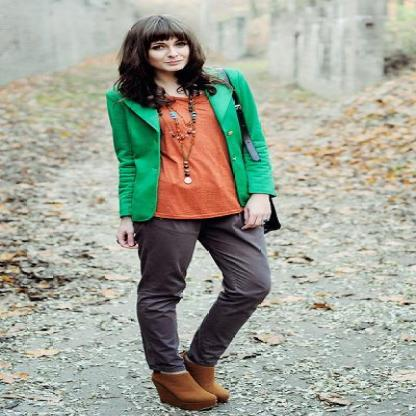bag: (218, 125, 250, 157)
jacket: (106, 70, 277, 220)
pants: (129, 210, 291, 377)
shirt: (155, 98, 243, 218)
shoe: (146, 366, 232, 411)
